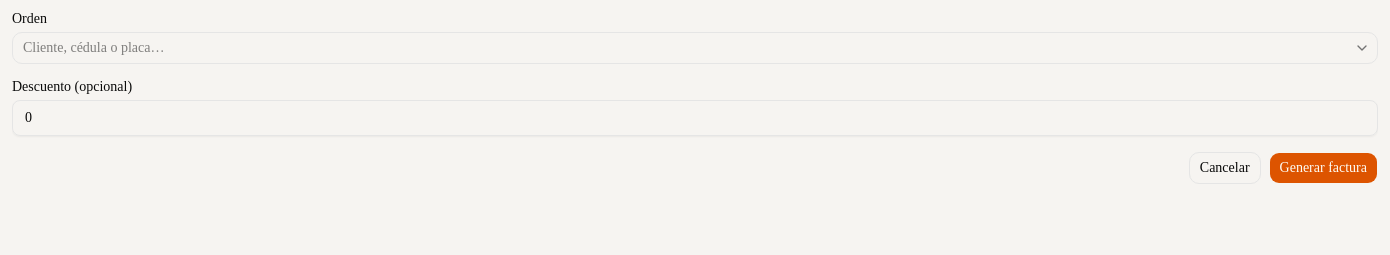
Test: NuevaFacturaForm › shows the server error and does not navigate when the action fails
Click the dropdown at (695, 48), box x1=12 y1=32 x2=1378 y2=64
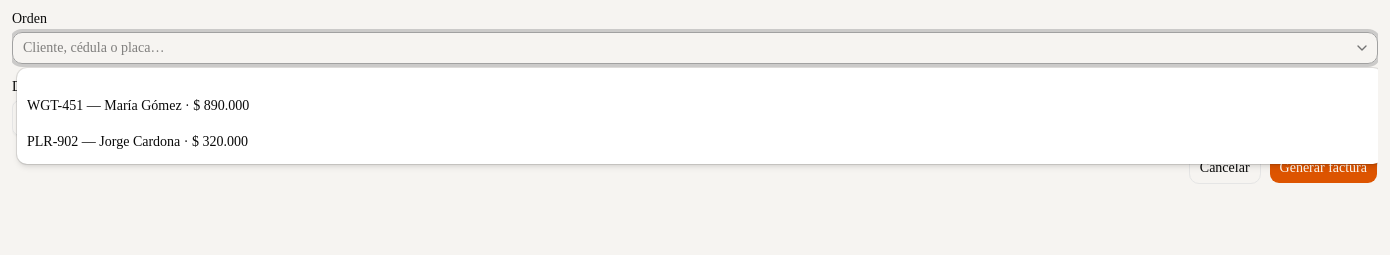
Click the option "WGT-451 — María Gómez · $ 890.000" at (138, 106), box x1=27 y1=98 x2=249 y2=113
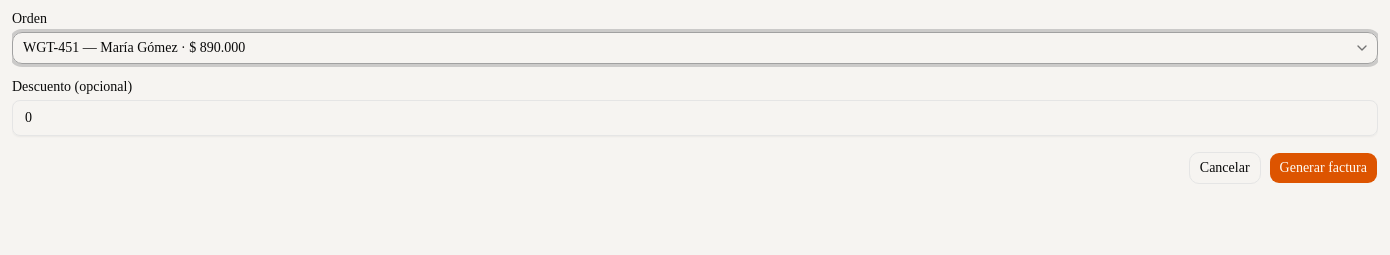
Click the button "Generar factura" at (1323, 168), box x1=1269 y1=152 x2=1378 y2=184
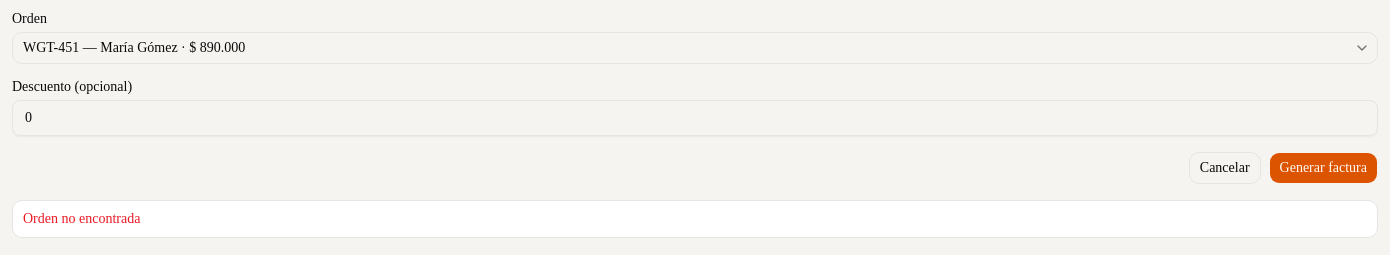
Expected: the message reads "Orden no encontrada", x1=23 y1=211 x2=140 y2=226
